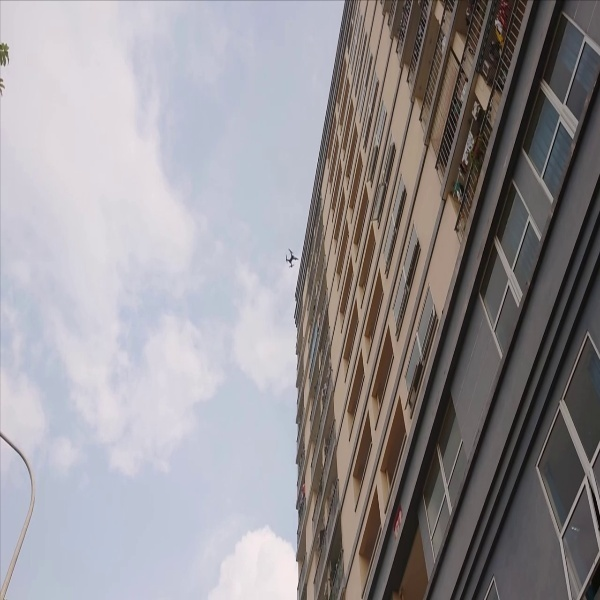drone: (282, 248, 300, 268)
